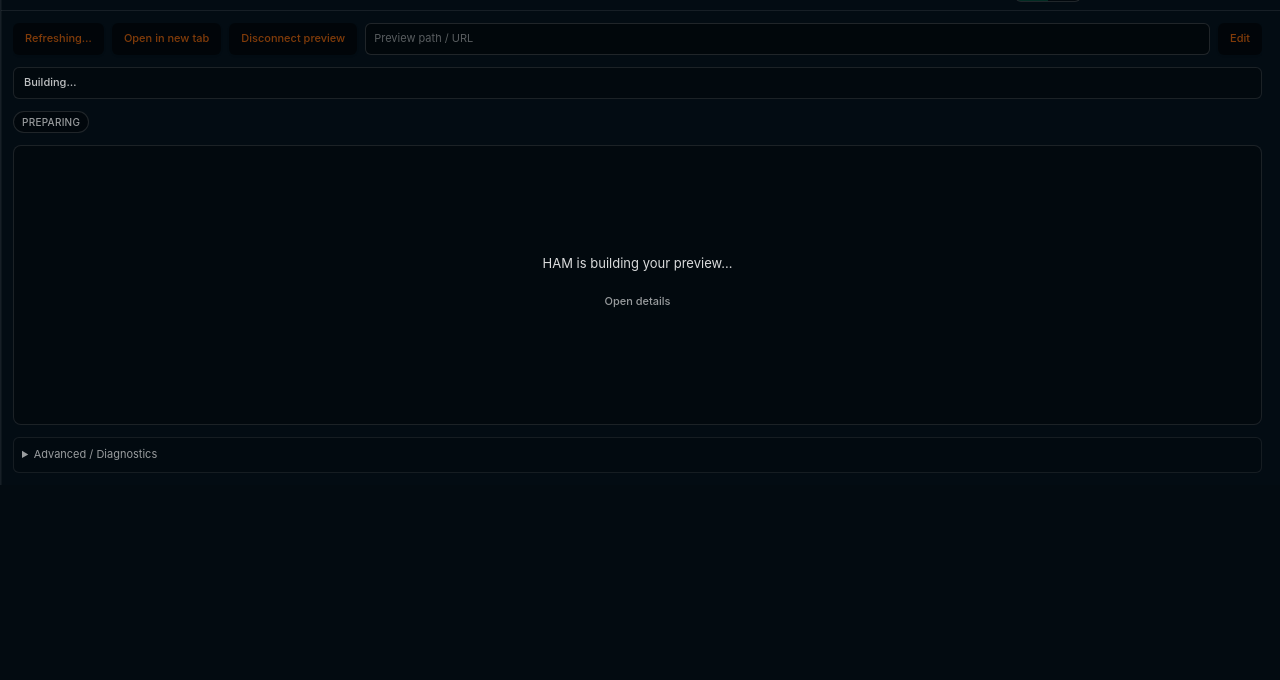
WorkspaceWorkbench › Optional worker disabled states are visually distinct from cloud runtime readiness
This screenshot has width=1280, height=680.
Click the heading "Advanced / Diagnostics".
click(95, 454)  # box [34,447,157,461]
(page scrolled)
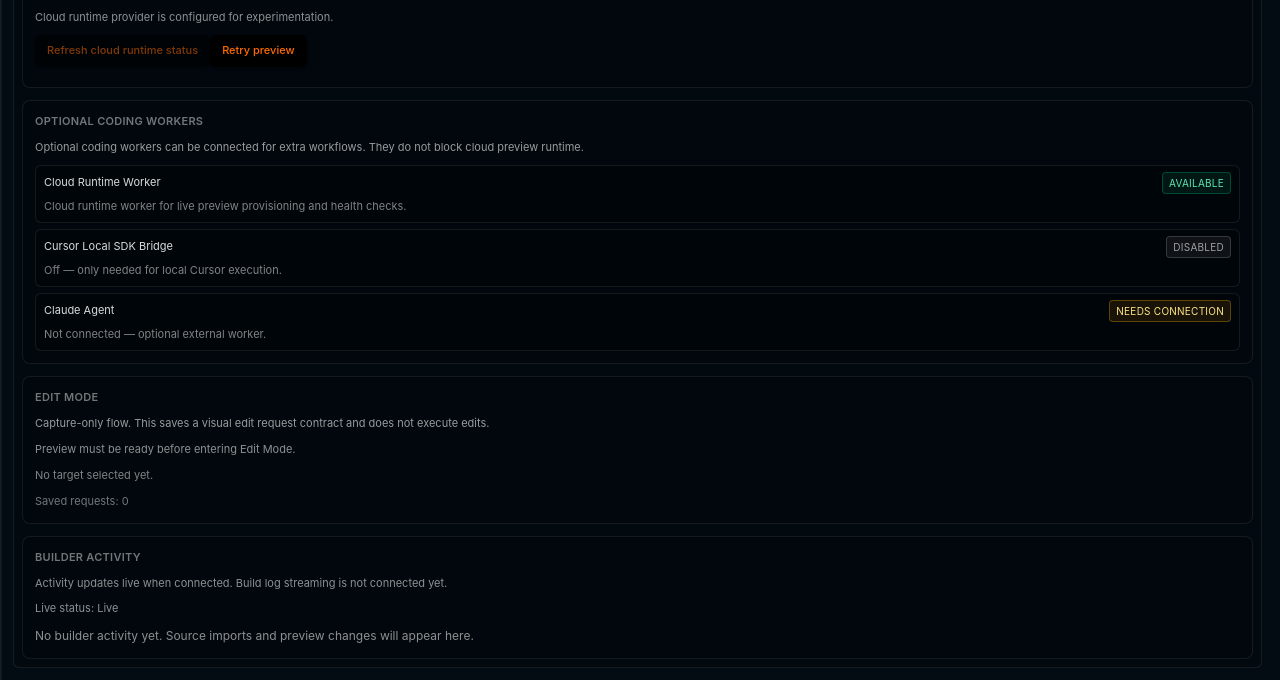
Result: the text "Optional coding workers" is shown at [35,114,203,128]
Result: the text "do not block cloud preview runtime" is shown at [35,140,584,154]
Result: the text "Off — only needed for local Cursor execution." is shown at [44,263,282,277]
